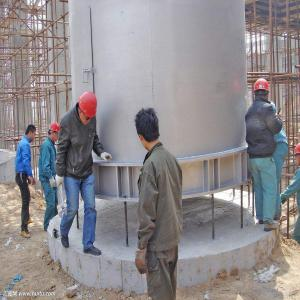none: (135, 109, 162, 151), (26, 125, 38, 144)
red: (79, 90, 99, 125), (255, 77, 271, 100), (49, 122, 61, 143), (294, 143, 300, 169)
